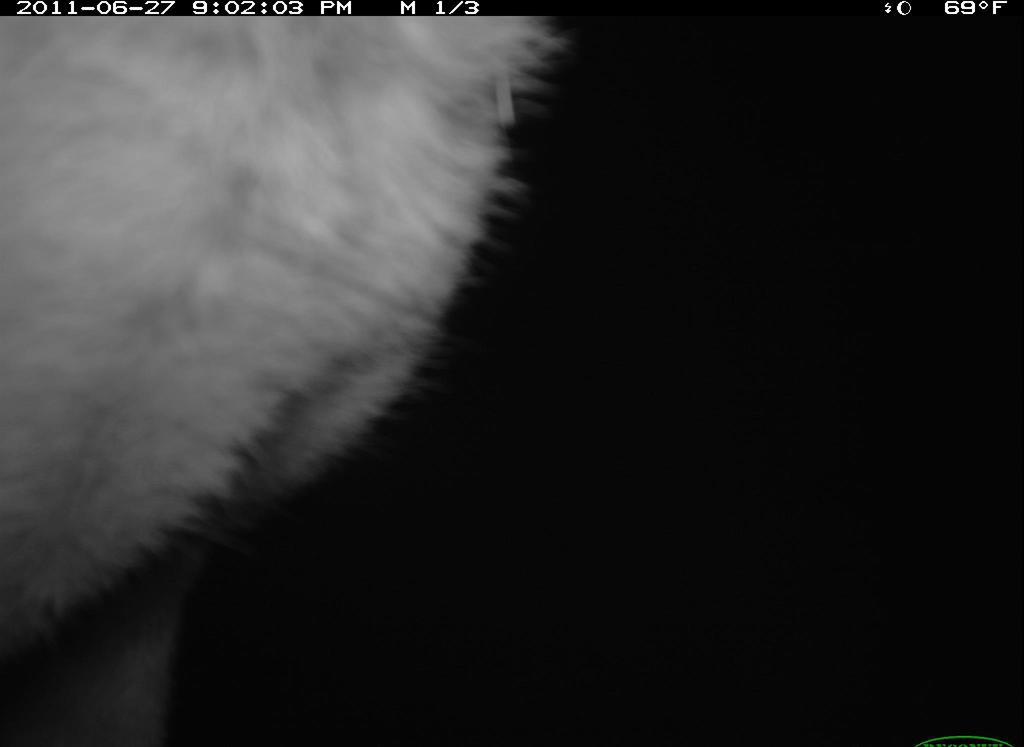coyote: (2, 15, 580, 743)
